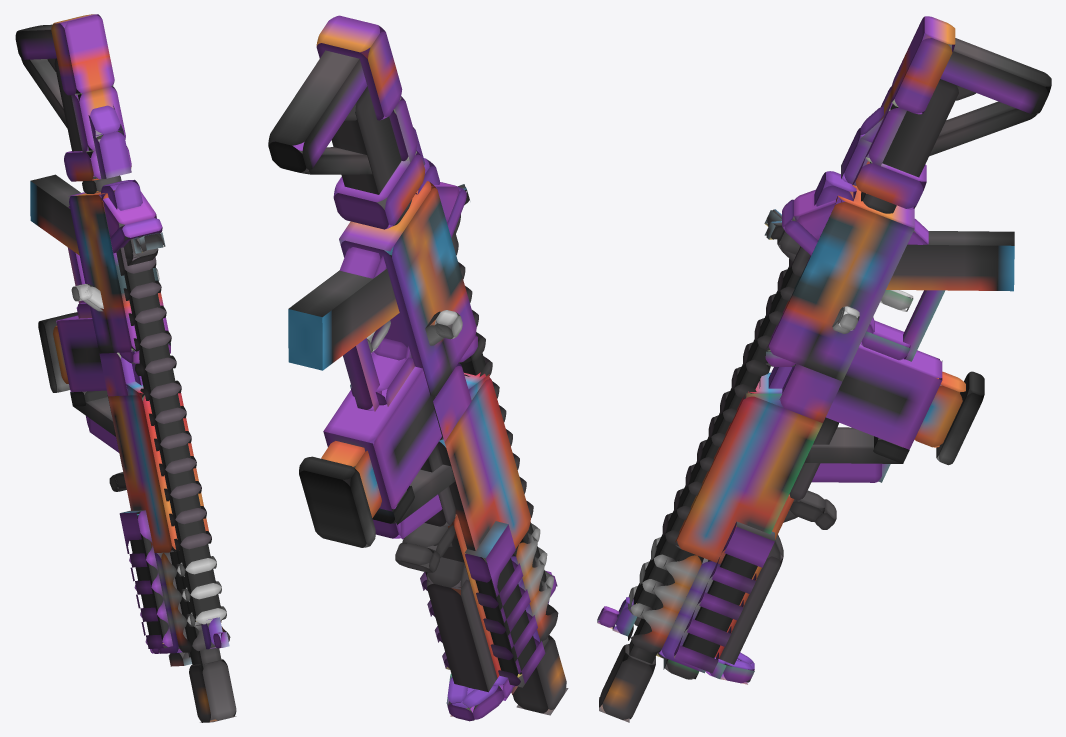
File: S2_gun.fbx
3 renders of one model, left to right at view 1: azimuth 30°, elevation 25°; view 2: azimuth 150°, elevation 25°; view 3: azimuth 270°, elevation 25°, orthographic. The views are drawn at different scales.
Visible parts, largest first — view 1: Gun03.001; view 2: Gun03.001; view 3: Gun03.001.
Boxes of the visible parts, x1=… form: Gun03.001: x1=15, y1=14, x2=236, y2=722; Gun03.001: x1=268, y1=15, x2=568, y2=721; Gun03.001: x1=597, y1=16, x2=1051, y2=722.
Size of the model in its own units: 0.1734 by 0.7504 by 1.26.
